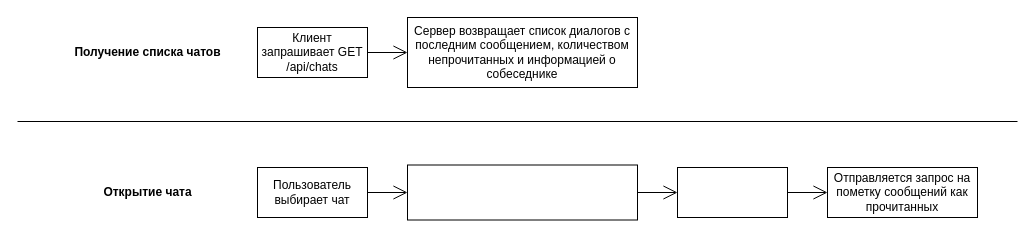
Image size: 1035x238. Some labels were removed from this diagram. Each missing label, with the centre of its shape:
Загружается история сообщений: (732,192)
Клиент подключается к SignalR к группе Chat_{chatId}: (522,192)
